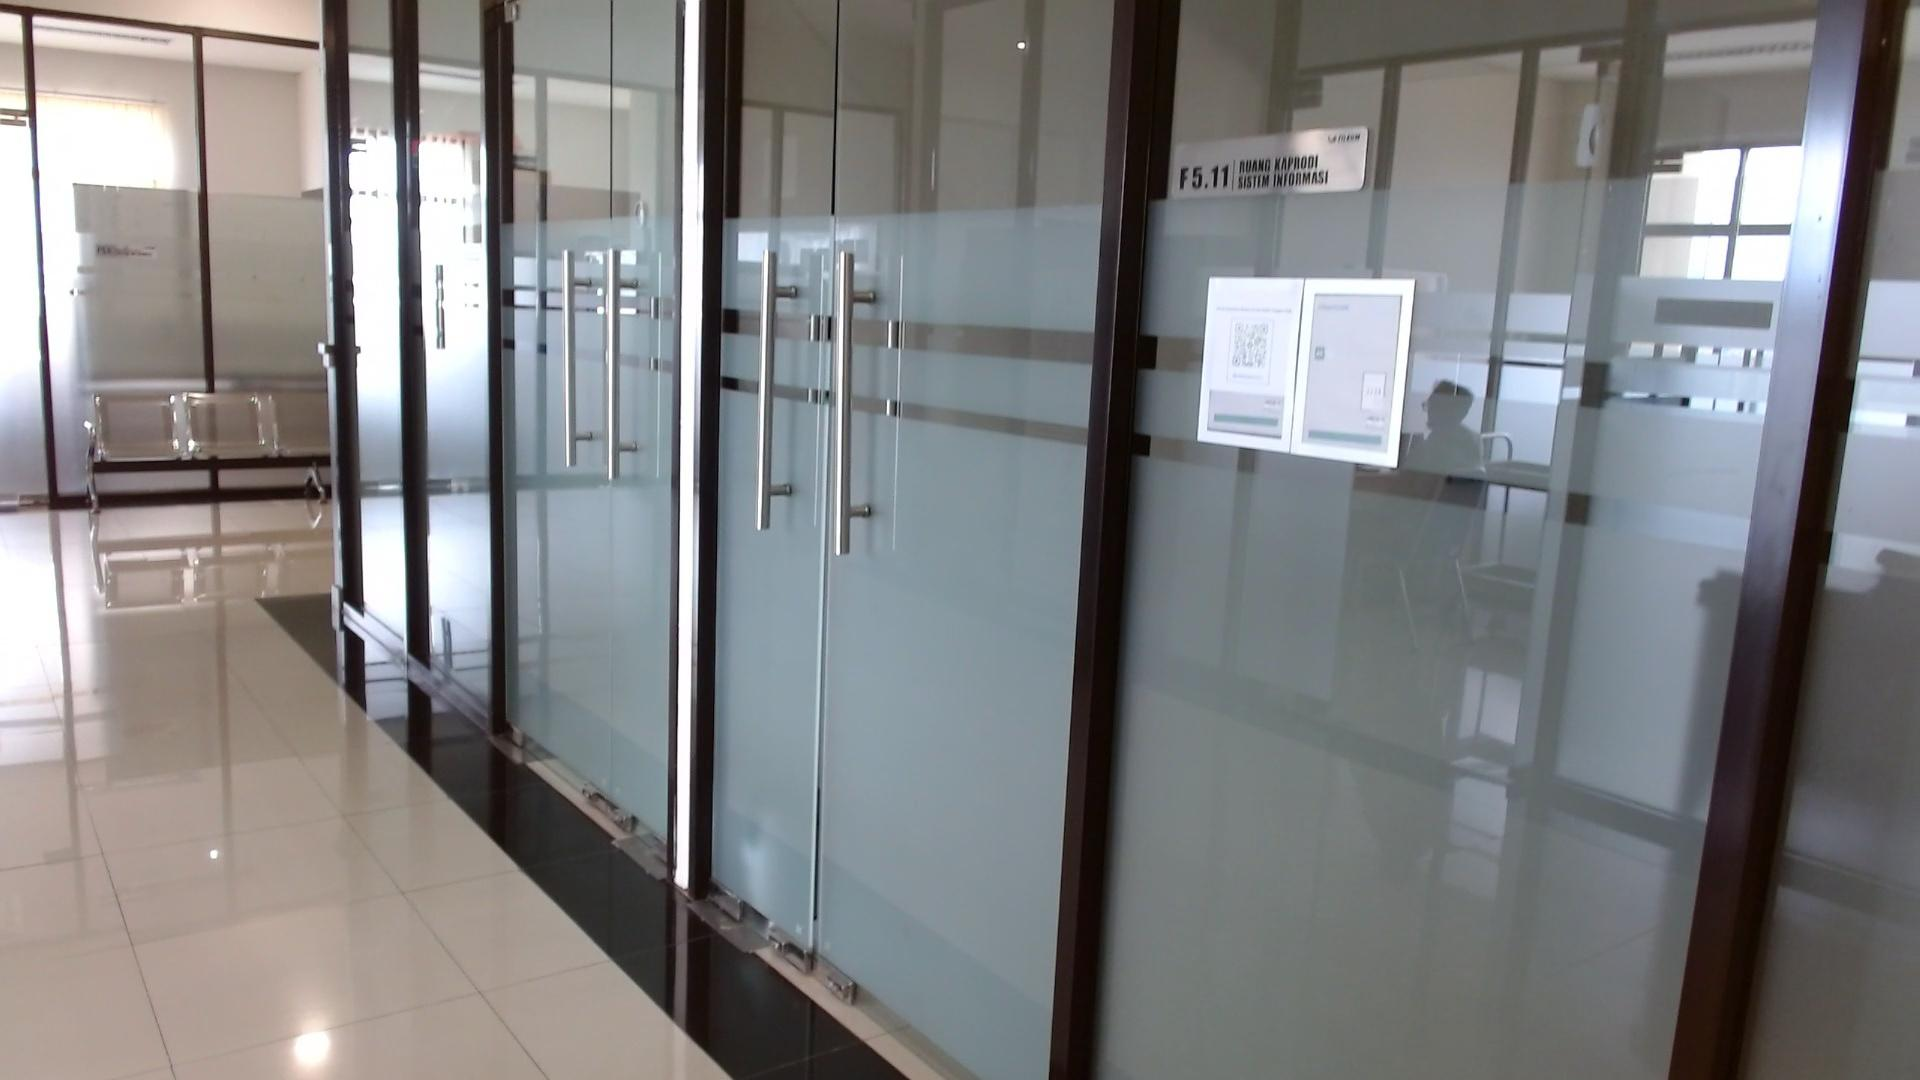plate: (1171, 124, 1370, 199)
